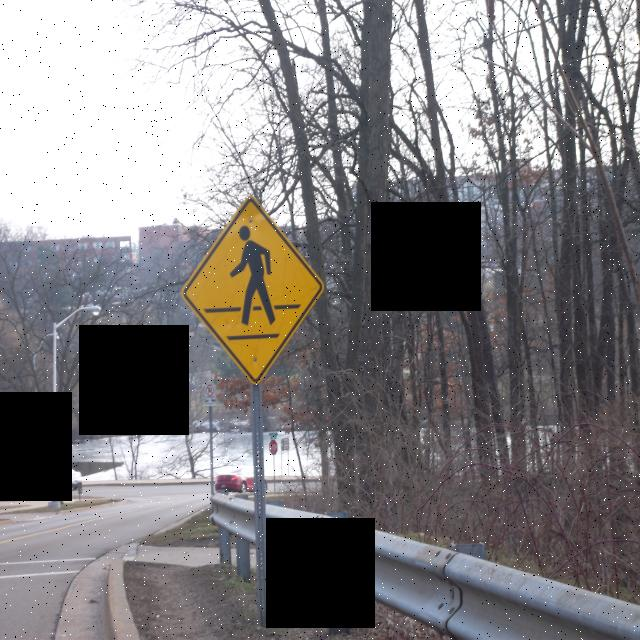regulatory: (204, 383, 217, 407)
stop: (269, 438, 278, 455)
warning: (183, 193, 326, 387)
